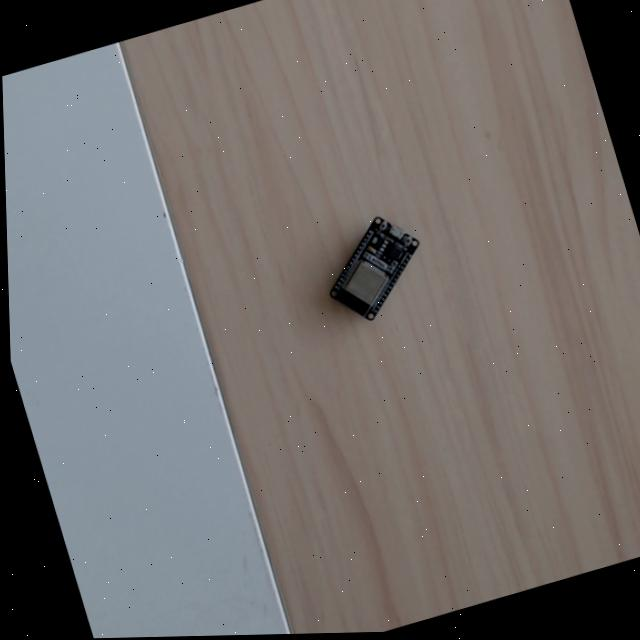ESP32-DevKit: (327, 209, 425, 323)
